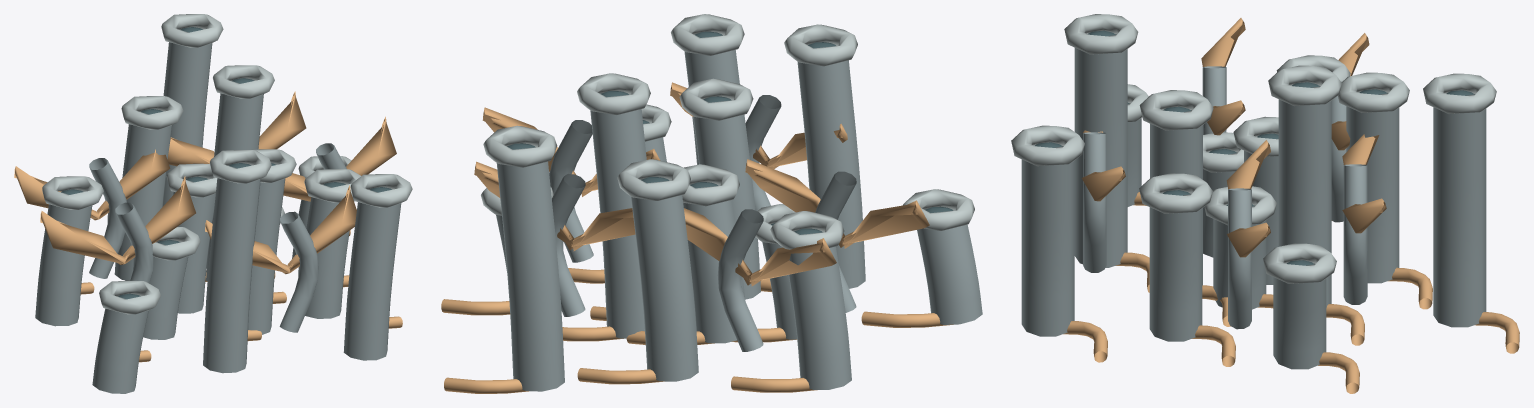
The model's file is bio_thermal_colony_17_far.glb.
The picture shows the model from 3 angles, left to right: view 1: azimuth 30°, elevation 25°; view 2: azimuth 150°, elevation 25°; view 3: azimuth 270°, elevation 25°; orthographic projection. The views are drawn at different scales.
Visible parts, largest first — view 1: Chimney biofilm.007, Chimney biofilm.010, Chimney biofilm.009, Chimney biofilm.011, Chimney biofilm.012, Secondary fan lobe.008, Chimney biofilm.002, Chimney biofilm.006, Chimney biofilm.005, Chimney biofilm.003, Branching support.002, Chimney biofilm.001 (+20 smaller); view 2: Chimney biofilm.011, Chimney biofilm.006, Chimney biofilm.007, Chimney biofilm.003, Chimney biofilm.009, Chimney biofilm.012, Chimney biofilm.002, Secondary fan lobe.008, Chimney biofilm.001, Branching support.001, Secondary fan lobe.002, Branching support.003 (+26 smaller); view 3: Chimney biofilm.011, Chimney biofilm.010, Chimney biofilm.003, Chimney biofilm.007, Chimney biofilm.005, Chimney biofilm.006, Chimney biofilm.008, Branching support.003, Branching support, Branching support.002, Chimney biofilm.002, Open vent rim.008 (+30 smaller).
Part boxes in pixels (left/top/right/bottom): Chimney biofilm.007: left=203, top=178, right=260, bottom=373; Chimney biofilm.010: left=343, top=202, right=401, bottom=360; Chimney biofilm.009: left=35, top=204, right=92, bottom=326; Chimney biofilm.011: left=163, top=42, right=212, bottom=205; Chimney biofilm.012: left=92, top=308, right=148, bottom=393; Secondary fan lobe.008: left=40, top=176, right=195, bottom=264; Chimney biofilm.002: left=248, top=178, right=285, bottom=334; Chimney biofilm.006: left=114, top=124, right=172, bottom=280; Chimney biofilm.005: left=305, top=197, right=354, bottom=318; Chimney biofilm.003: left=206, top=93, right=263, bottom=281; Branching support.002: left=279, top=211, right=318, bottom=332; Chimney biofilm.001: left=173, top=192, right=215, bottom=313; Chimney biofilm.011: left=496, top=161, right=564, bottom=391; Chimney biofilm.006: left=631, top=179, right=698, bottom=381; Chimney biofilm.007: left=797, top=60, right=865, bottom=288; Chimney biofilm.003: left=590, top=109, right=646, bottom=338; Chimney biofilm.009: left=788, top=246, right=851, bottom=389; Chimney biofilm.012: left=917, top=224, right=982, bottom=324; Chimney biofilm.002: left=693, top=96, right=760, bottom=299; Secondary fan lobe.008: left=745, top=159, right=929, bottom=248; Chimney biofilm.001: left=683, top=184, right=744, bottom=343; Branching support.001: left=717, top=209, right=763, bottom=351; Secondary fan lobe.002: left=684, top=208, right=836, bottom=286; Branching support.003: left=552, top=174, right=585, bottom=316; Chimney biofilm.011: left=1433, top=94, right=1486, bottom=327; Chimney biofilm.010: left=1021, top=146, right=1074, bottom=336; Chimney biofilm.003: left=1278, top=85, right=1331, bottom=307; Chimney biofilm.007: left=1074, top=34, right=1127, bottom=267; Chimney biofilm.005: left=1149, top=193, right=1202, bottom=341; Chimney biofilm.006: left=1346, top=92, right=1399, bottom=283; Chimney biofilm.008: left=1273, top=263, right=1326, bottom=369; Branching support.003: left=1343, top=164, right=1367, bottom=304; Branching support: left=1228, top=188, right=1251, bottom=329; Branching support.002: left=1083, top=132, right=1106, bottom=272; Chimney biofilm.002: left=1150, top=110, right=1202, bottom=285; Open vent rim.008: left=1263, top=243, right=1336, bottom=283.
Size of the model in its own units: 1.85 by 1.03 by 1.92.
